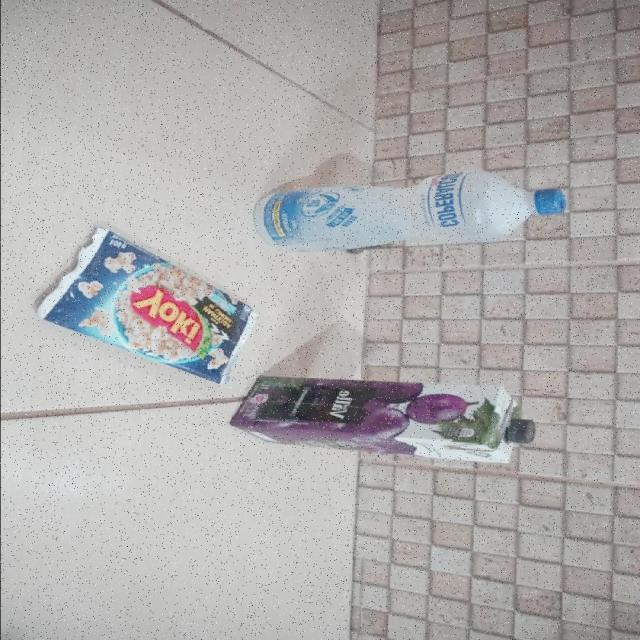AlcoholBottle: (258, 169, 569, 249)
Popcorn: (29, 232, 258, 378)
